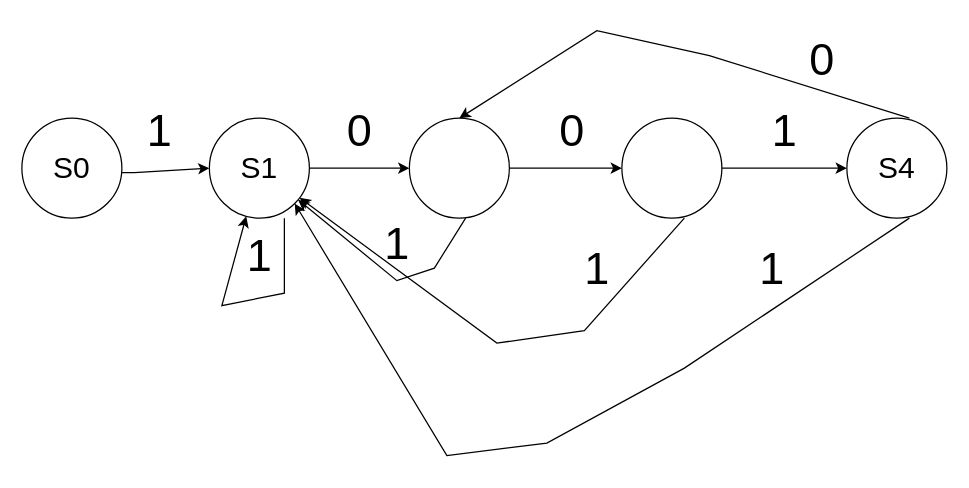
Image size: 969x488. Some labels were removed from this diagram. Here are the shapes that lost their labels. From the top down, the centre of each, then its label:
At (x=458, y=167): "S2".
At (x=671, y=167): "S3".
